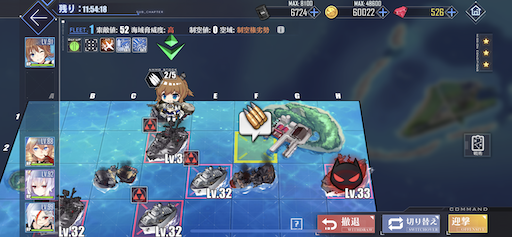boss: (321, 153, 372, 198)
lv3: (130, 187, 181, 237), (182, 152, 230, 199), (142, 116, 187, 163)
